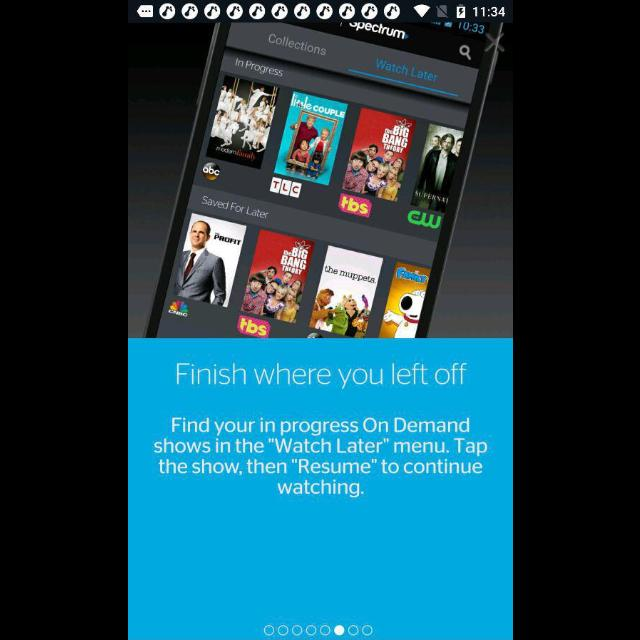icon: (484, 32, 504, 52)
image: (128, 24, 512, 338)
pageindicator: (262, 624, 374, 636)
text: (152, 414, 486, 498), (176, 362, 467, 390)
uppertaskbar: (128, 1, 512, 23)
